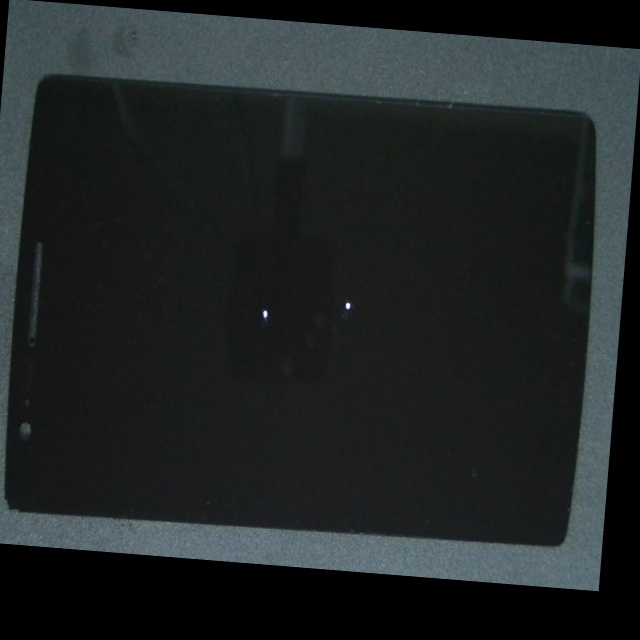stain: (134, 188, 544, 492), (78, 161, 407, 503)
